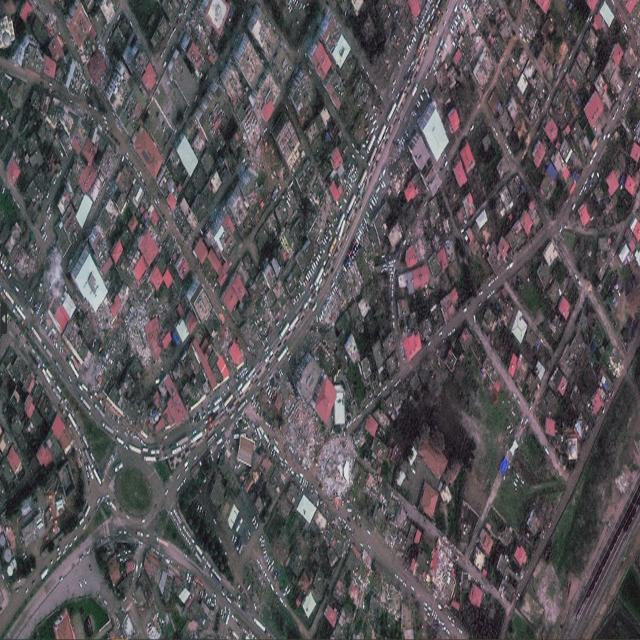Rubble: (318, 436, 356, 499), (286, 404, 314, 468), (430, 536, 456, 596), (128, 302, 154, 361), (240, 104, 270, 152), (86, 348, 109, 386), (266, 16, 283, 64), (100, 145, 118, 184)
